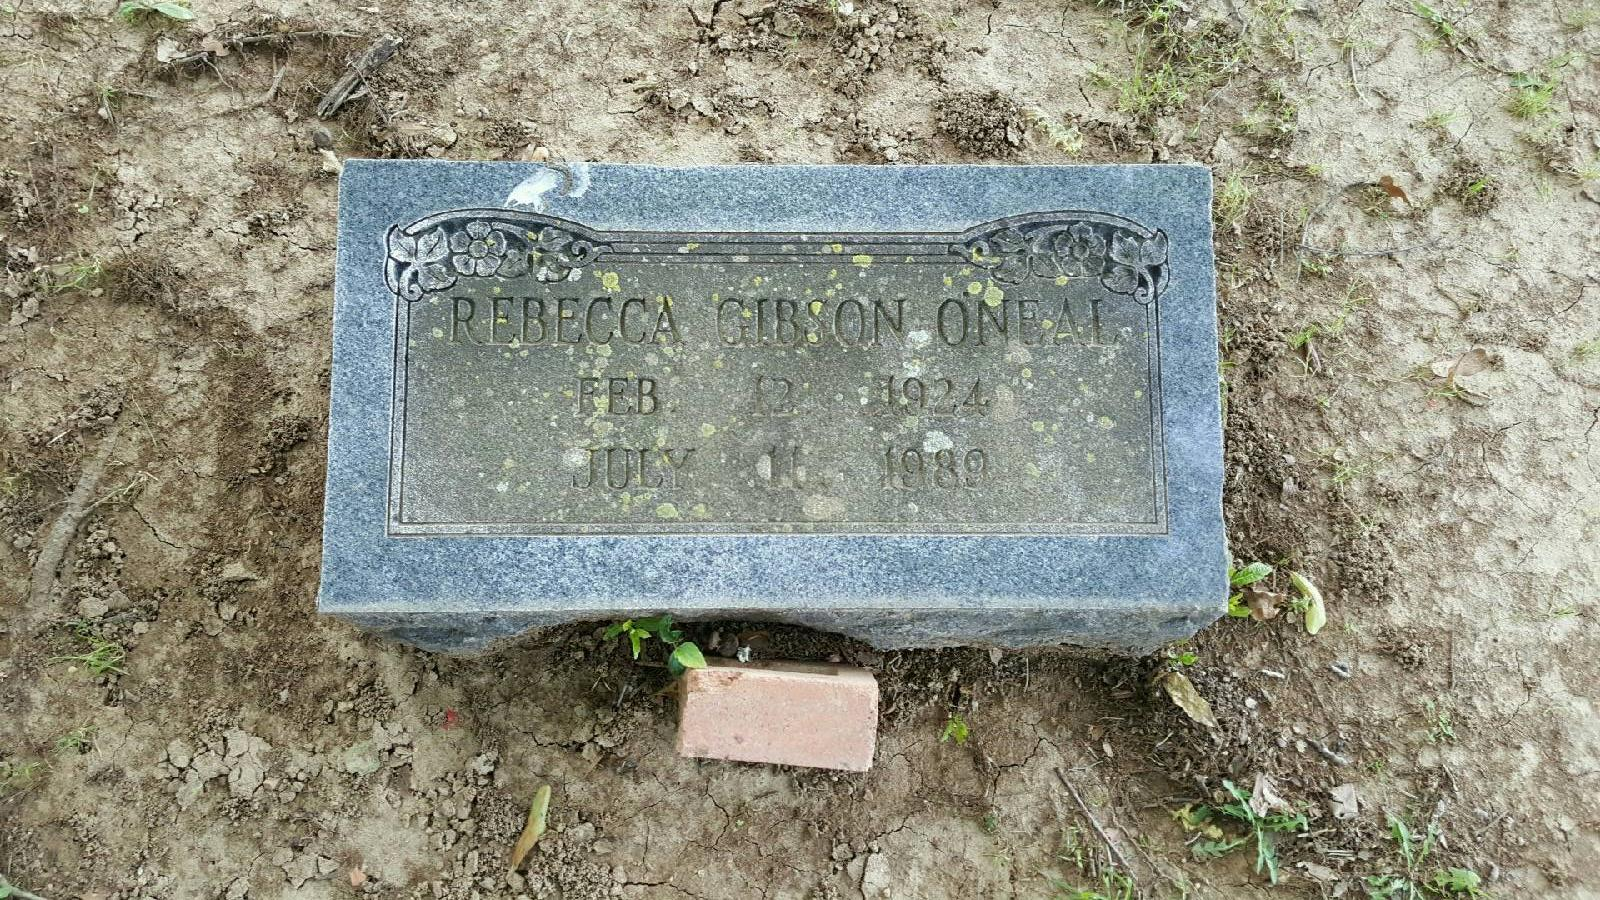flat: (309, 159, 1232, 651)
